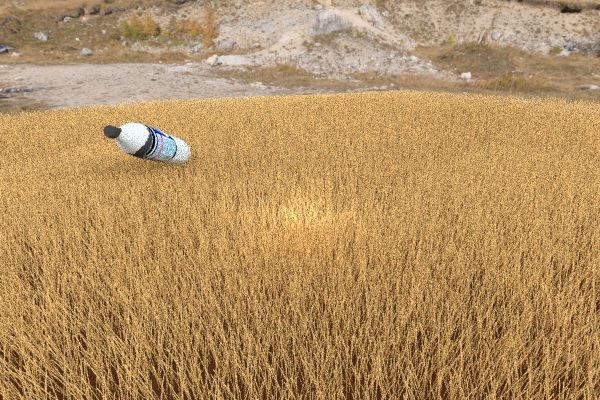bottle: (107, 121, 192, 163)
can: (274, 154, 385, 226), (253, 117, 301, 147)
